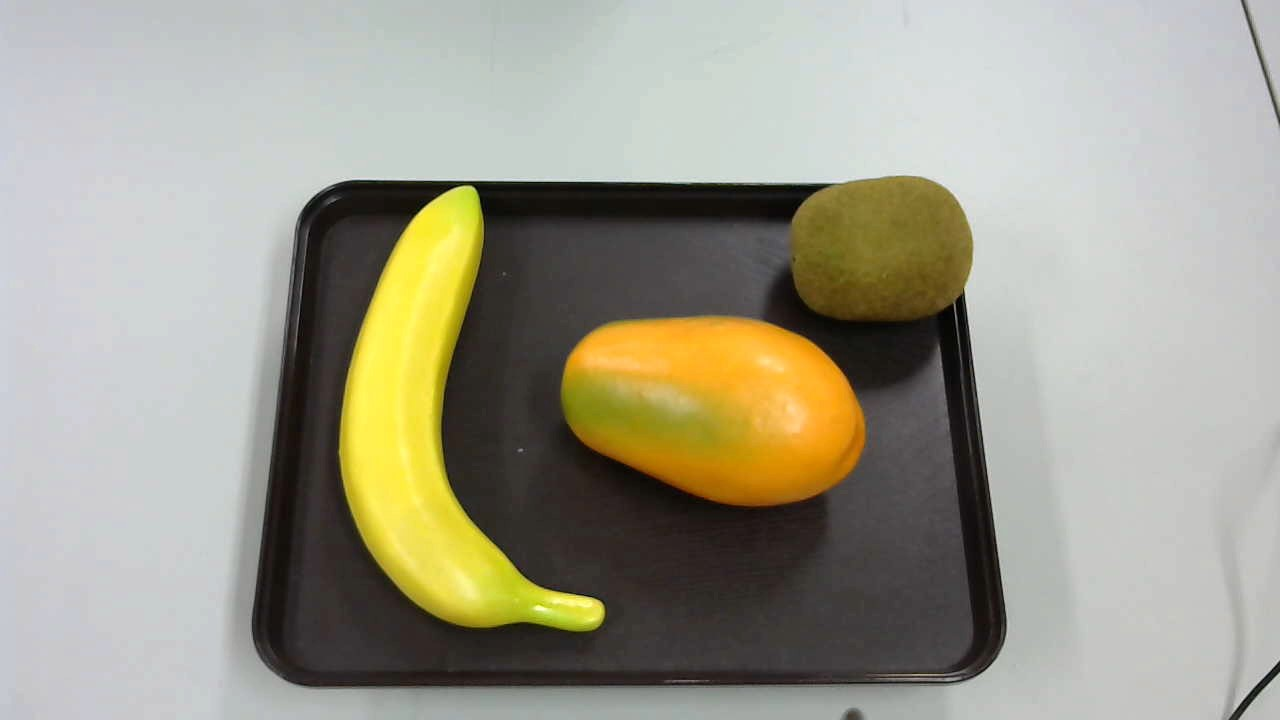banana: (334, 178, 607, 638)
kiwi fruit: (779, 173, 976, 327)
papya: (555, 312, 869, 519)
